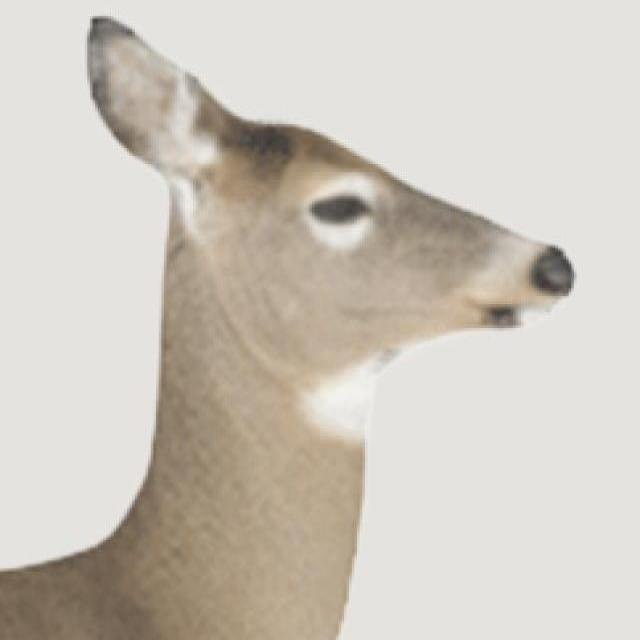deer: (4, 19, 575, 629)
